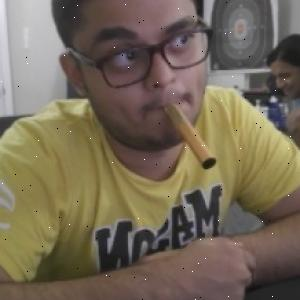Golden-E-Ciggirate: (166, 100, 220, 171)
